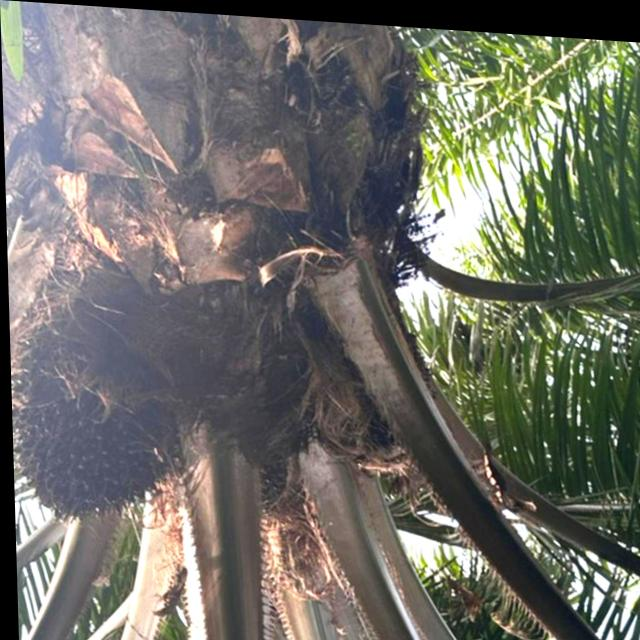unripe: (8, 331, 185, 538)
